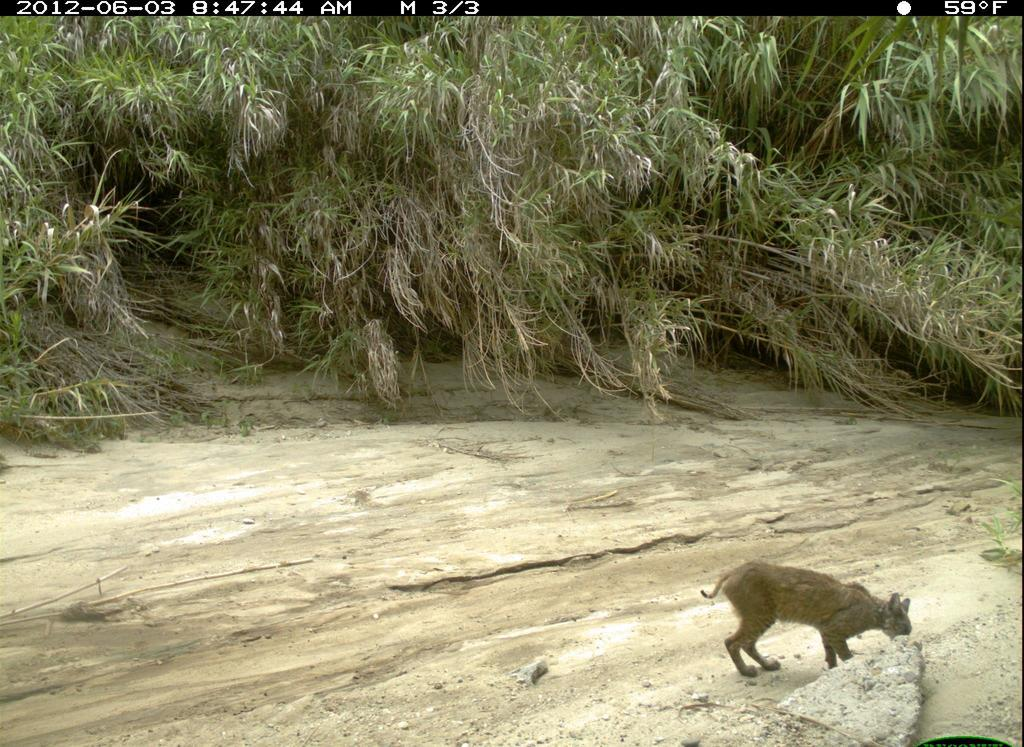bobcat: (689, 550, 931, 681)
